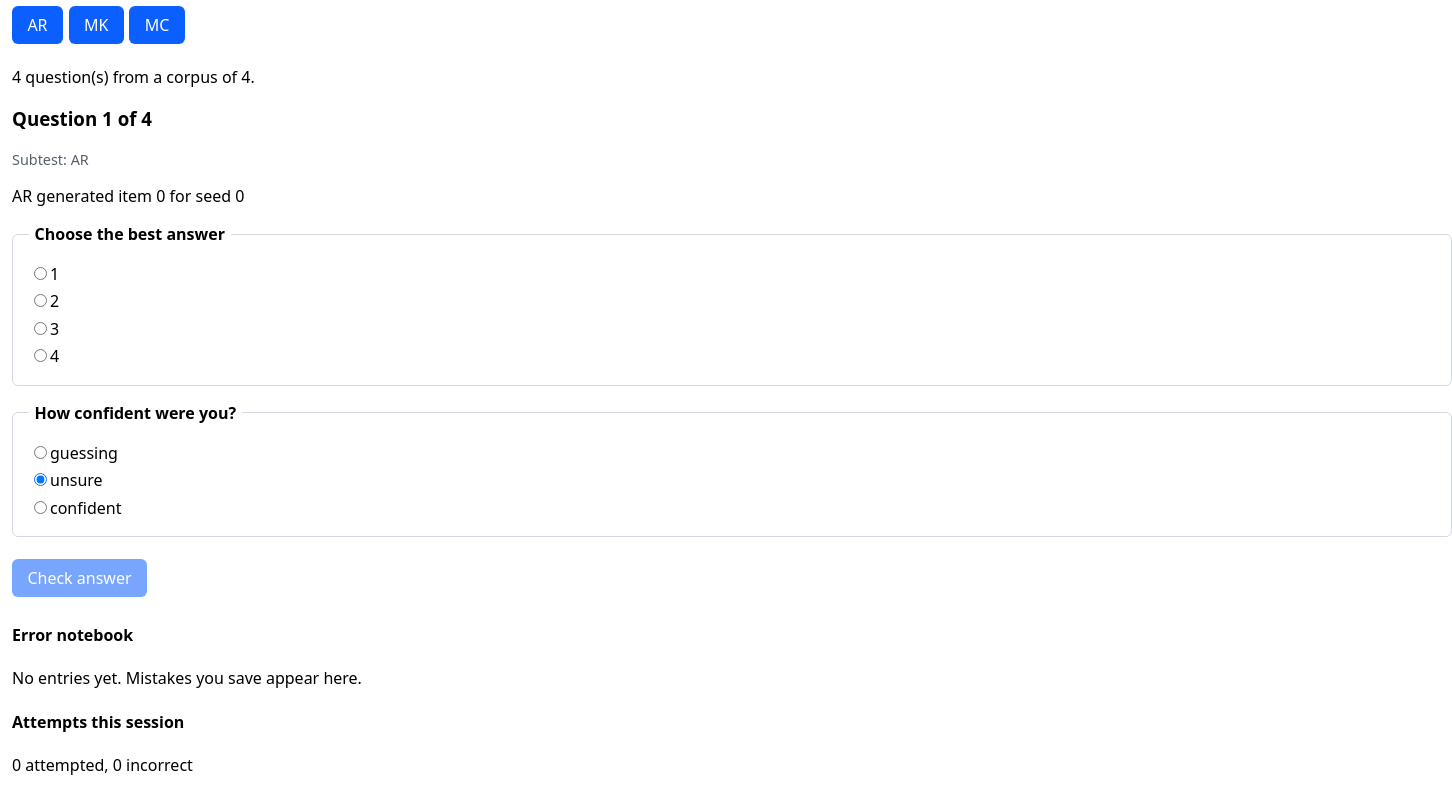
Test: PracticeContentView › says so when a subtest has no content, and offers to fix it
The width and height of the screenshot is (1452, 810).
Step 1. Click the button "MK" → (96, 25), box [69,6,124,44]
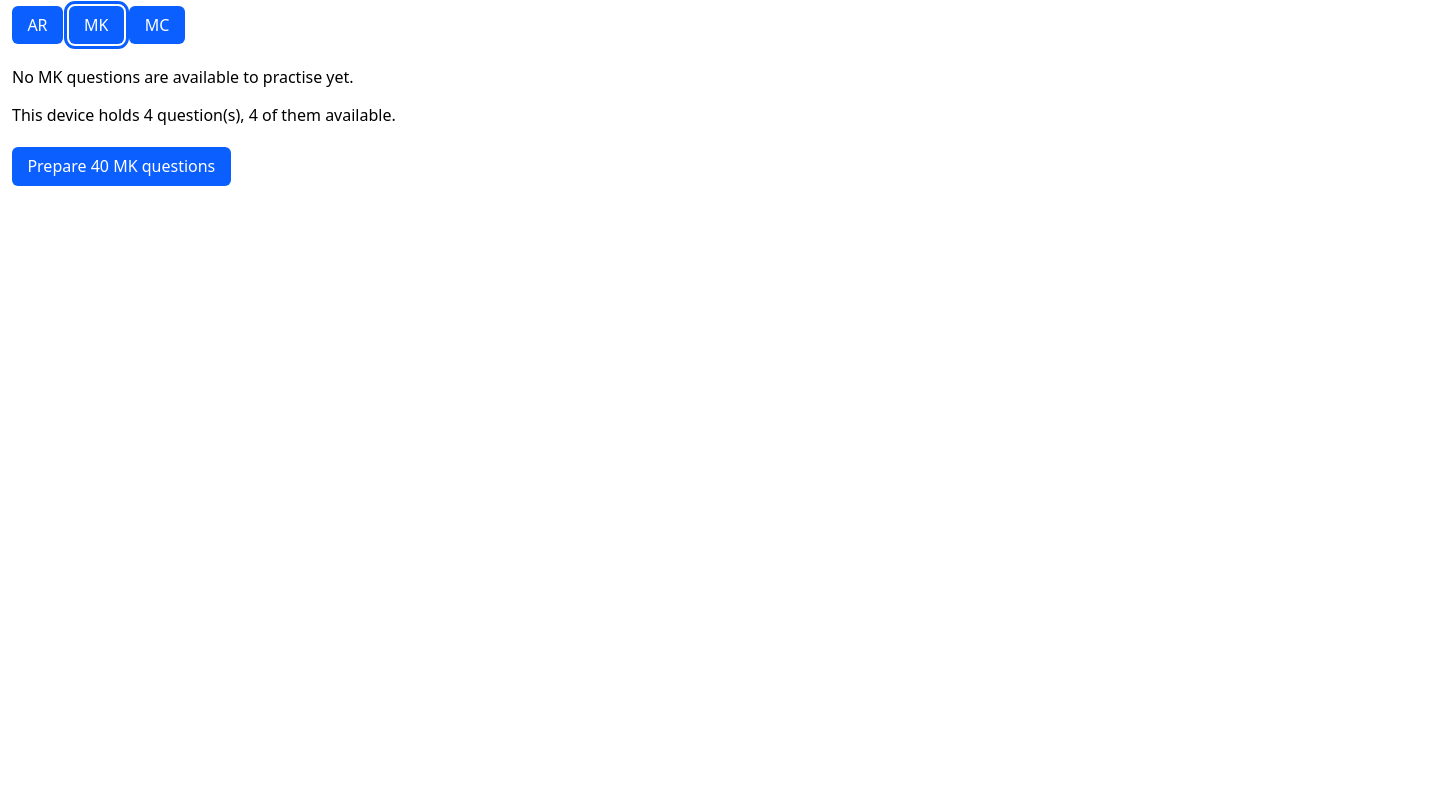
Expected: the element with test id "practice-empty" is shown, [12,66,396,186]
Expected: the element with test id "practice-empty" shows "This device holds 4 question", [12,104,396,126]
Expected: the button "Prepare 40 MK questions" is shown, [12,147,231,186]
